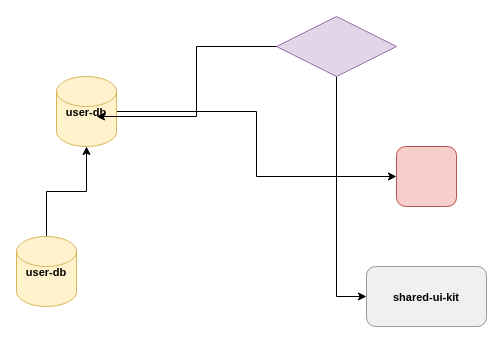
The diagram is 503 pixels wide and 343 high, and some of its shapes have lost their labels. Here are the shapes that lost their labels. From the top down, the centre of each, then its label:
At (336,46): "api-gateway".
At (426,176): "event-bus".
